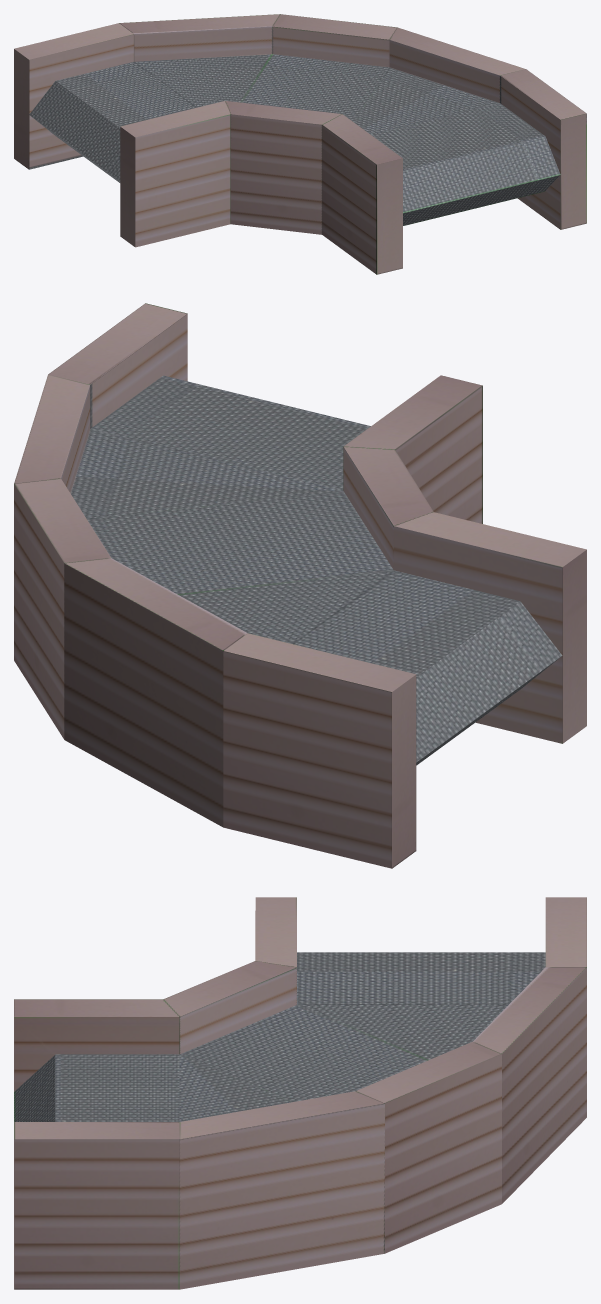
File: Curved_Conveyor_Belt.FBX
3 renders of one model, top to bottom at view 1: azimuth 30°, elevation 25°; view 2: azimuth 150°, elevation 25°; view 3: azimuth 270°, elevation 25°, orthographic. The views are drawn at different scales.
Parts seen in each view (by area): view 1: Box003; view 2: Box003; view 3: Box003.
Boxes of the visible parts, x1=… form: Box003: x1=14, y1=14, x2=586, y2=274; Box003: x1=14, y1=303, x2=586, y2=868; Box003: x1=14, y1=897, x2=586, y2=1289.
Bounding box in the file's own units: 138 × 40 × 138.
